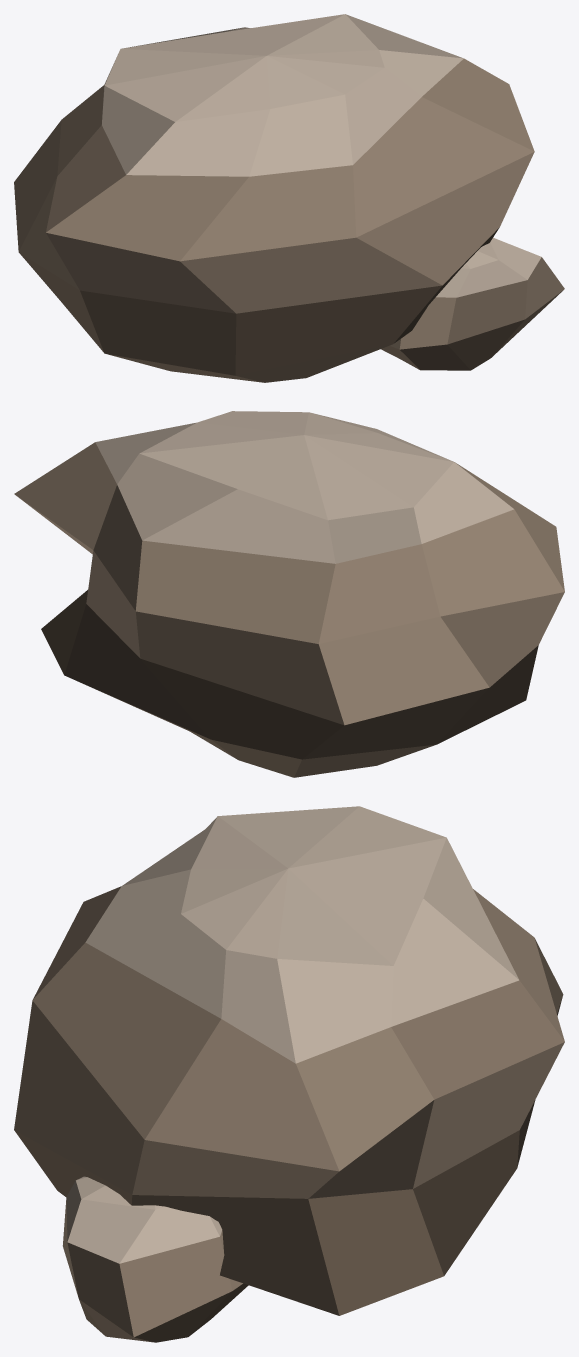
The model's file is RockM.fbx.
3 renders of one model, top to bottom at view 1: azimuth 30°, elevation 25°; view 2: azimuth 150°, elevation 25°; view 3: azimuth 270°, elevation 25°, orthographic. The views are drawn at different scales.
Parts seen in each view (by area): view 1: RockM; view 2: RockM; view 3: RockM.
Part boxes in pixels (x1,y1,x2,y2): RockM: (14, 14, 564, 382); RockM: (14, 411, 564, 777); RockM: (14, 806, 564, 1342).
Bounding box in the file's own units: 218 × 120 × 161.
